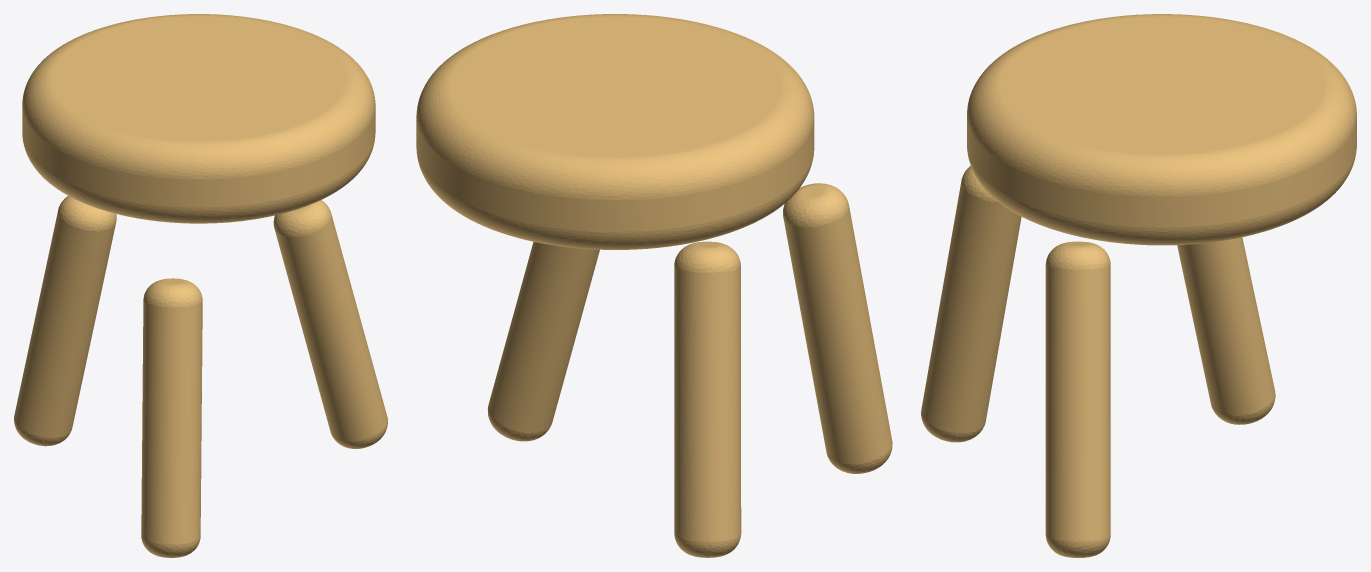
File: hocker.obj
The picture shows the model from 3 angles, left to right: view 1: azimuth 30°, elevation 25°; view 2: azimuth 150°, elevation 25°; view 3: azimuth 270°, elevation 25°; orthographic projection. The views are drawn at different scales.
Parts seen in each view (by area): view 1: 282312_23_05_24_17_42_47_1; view 2: 282312_23_05_24_17_42_47_1; view 3: 282312_23_05_24_17_42_47_1.
Part boxes in pixels (box(x1,y1,x2,y2)): 282312_23_05_24_17_42_47_1: box(14, 14, 387, 557); 282312_23_05_24_17_42_47_1: box(416, 14, 892, 557); 282312_23_05_24_17_42_47_1: box(921, 14, 1356, 557).
Bounding box in the file's own units: 2.05 × 2.42 × 2.29.
Materials: 1 (1 with a texture image).
